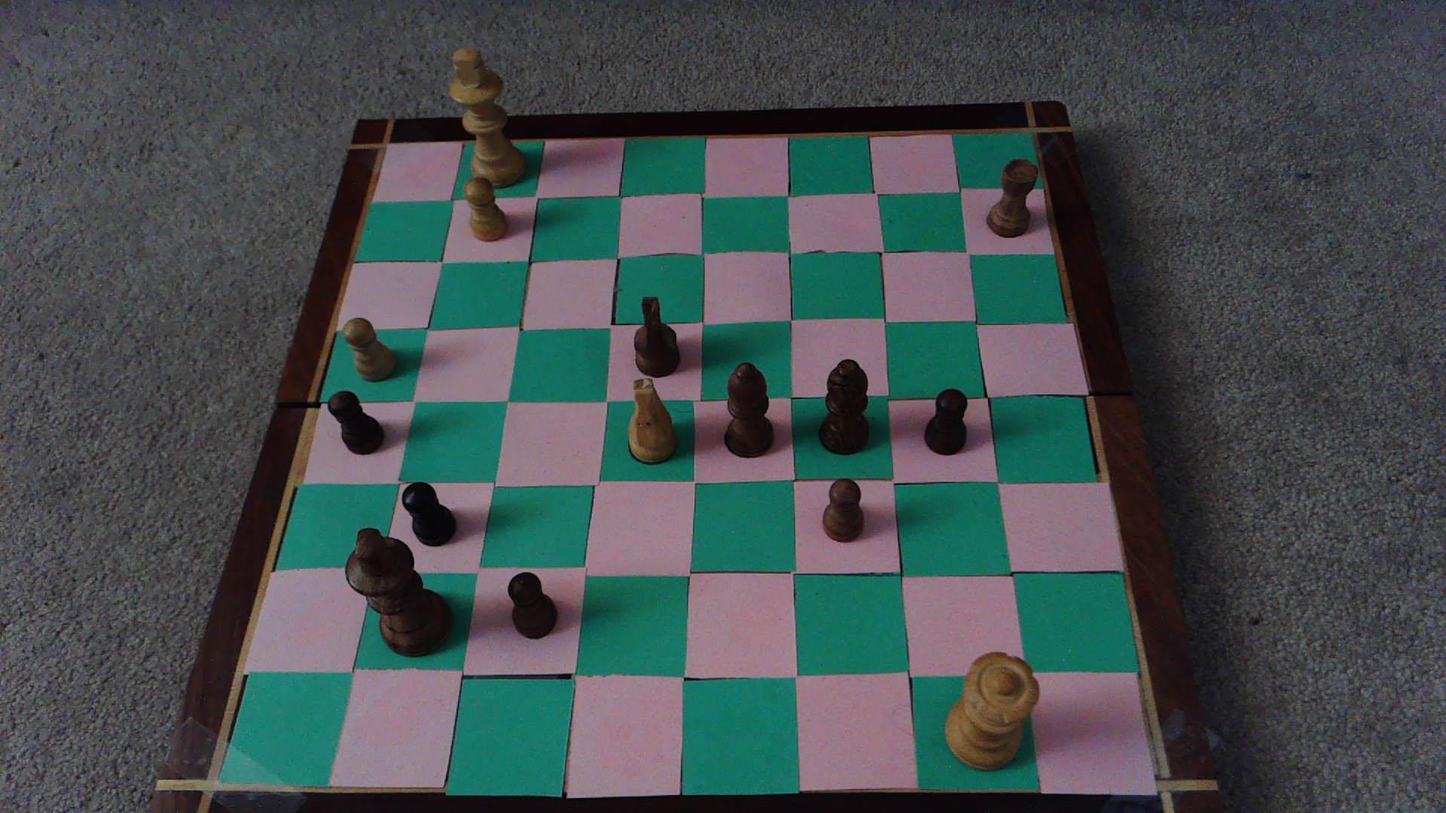dark_piece: (345, 528, 450, 656), (820, 359, 869, 453), (725, 362, 773, 455), (988, 159, 1037, 236), (635, 296, 680, 376), (328, 391, 383, 454), (402, 482, 455, 546), (508, 572, 556, 638), (925, 388, 966, 454), (822, 479, 863, 541)
white_piece: (946, 653, 1038, 769), (451, 49, 526, 187), (626, 378, 677, 462), (343, 317, 395, 381), (464, 175, 506, 240)
